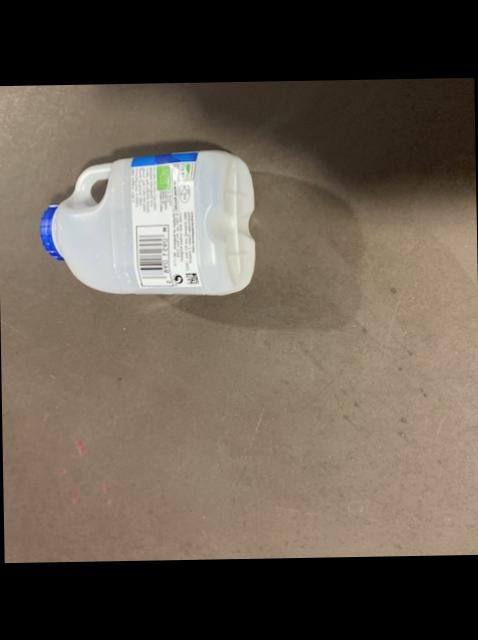plastic: (43, 151, 256, 295)
